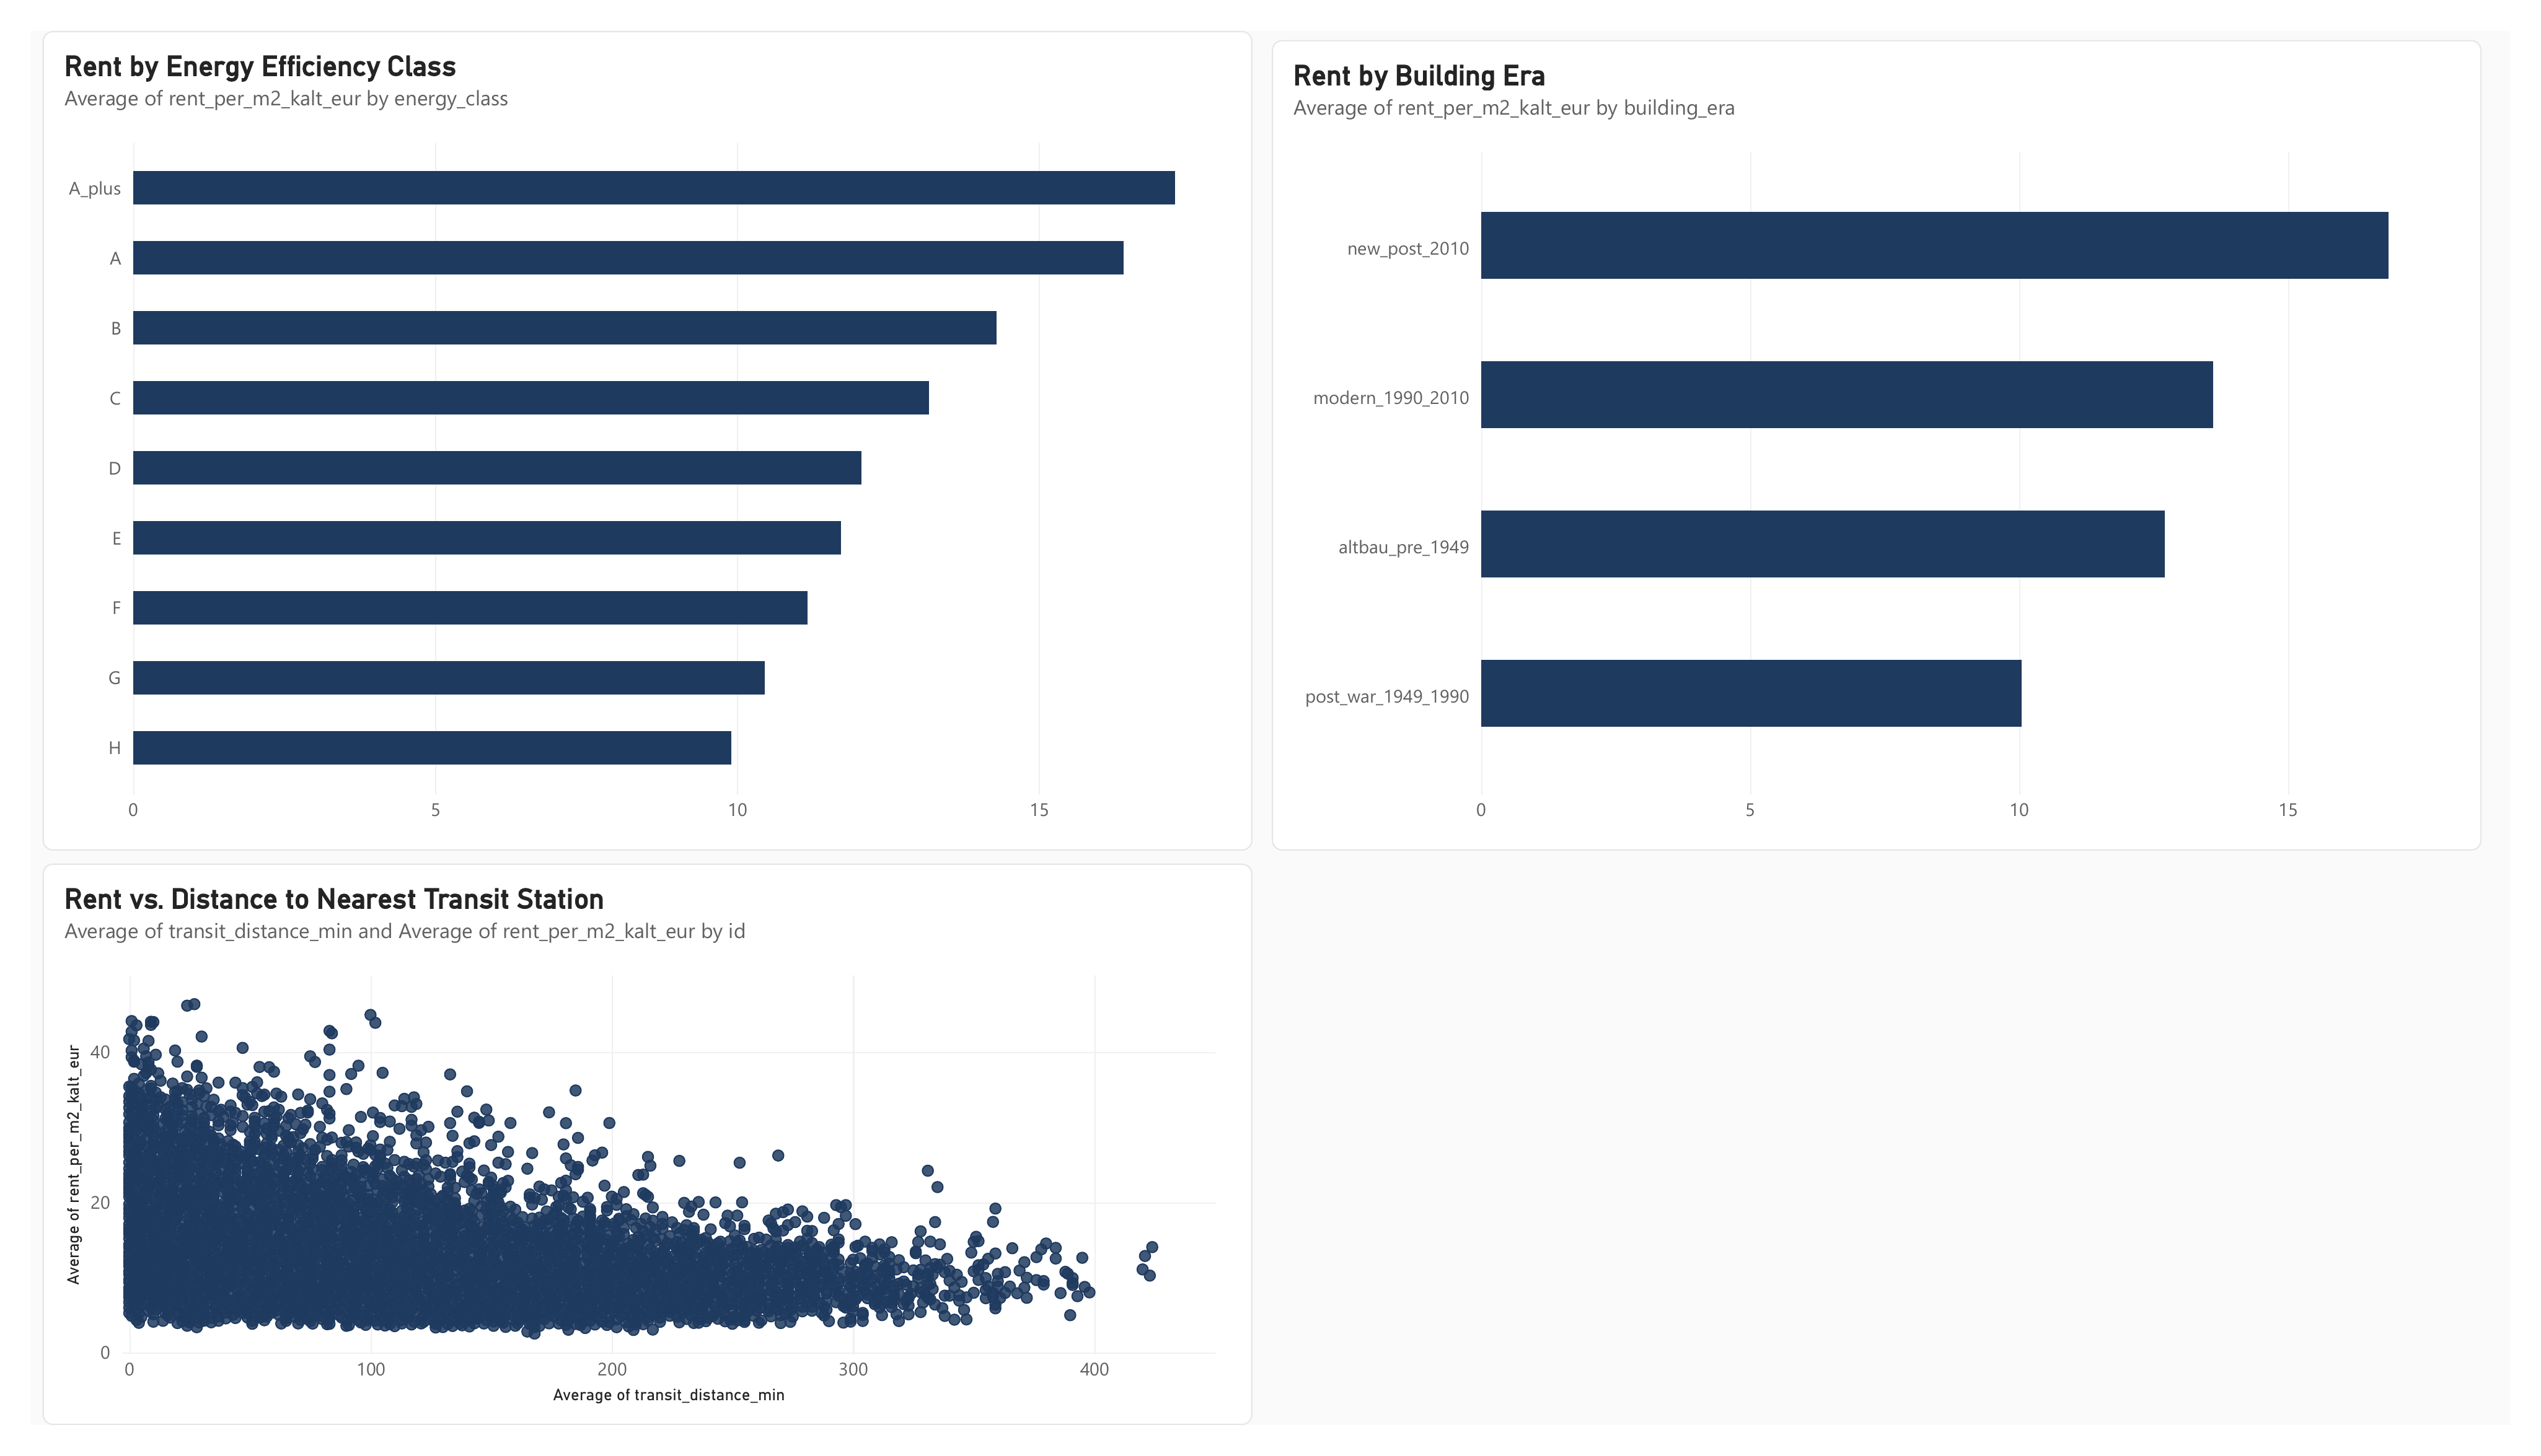

This screenshot's page, from the dashboard's own definition file:
{"tool":"powerbi","page":{"name":"What drive the price?","canvas":[1920,1080],"ordinal":2},"visuals":[{"type":"barChart","title":"Rent by Energy Efficiency Class","fields":{"Category":["rentals.energy_class"],"Y":["Avg(rentals.rent_per_m2_kalt_eur)"]},"box":[9.2,0,936.8,635],"z":0},{"type":"barChart","title":"Rent by Building Era","fields":{"Category":["rentals.building_era"],"Y":["Avg(rentals.rent_per_m2_kalt_eur)"]},"box":[960.7,7.4,936.8,627.6],"z":1},{"type":"scatterChart","title":"Rent vs. Distance to Nearest Transit Station","fields":{"Category":["rentals.id"],"X":["Avg(rentals.transit_distance_min)"],"Y":["Avg(rentals.rent_per_m2_kalt_eur)"]},"box":[9,645,937,435],"z":2}]}

Visuals, with their boxes on the page's 1920x1080 design canvas (x1, y1, x2, y2). These are canvas units, not pixel positions in the 2541x1456 screenshot, which may show the page scaled, cropped or inside an application window:
"Rent by Energy Efficiency Class" barChart: (9, 0, 946, 635)
"Rent by Building Era" barChart: (961, 7, 1898, 635)
"Rent vs. Distance to Nearest Transit Station" scatterChart: (9, 645, 946, 1080)
